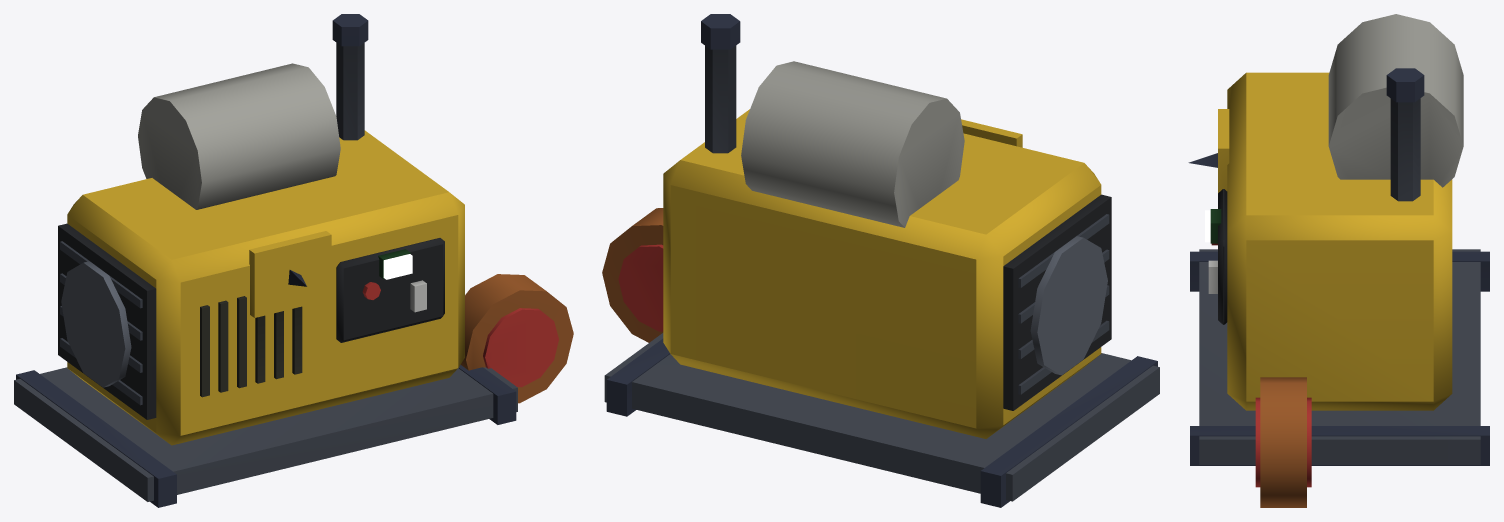
Rendered from p_st_generator.glb.
3 views of the same model, side by side, from view 1: azimuth 30°, elevation 25°; view 2: azimuth 150°, elevation 25°; view 3: azimuth 270°, elevation 25° (orthographic). The views are drawn at different scales.
Parts seen in each view (by area): view 1: body, fan, lamp_glow; view 2: body, fan; view 3: body.
Boxes of the visible parts, x1,y1,x2,y2 form: body: (14,14,573,507); fan: (61,261,131,387); lamp_glow: (383,254,412,279); body: (602,14,1159,507); fan: (1030,236,1107,375); body: (1188,14,1489,507).
Size of the model in its own units: 2.95 by 2.21 by 1.61.
